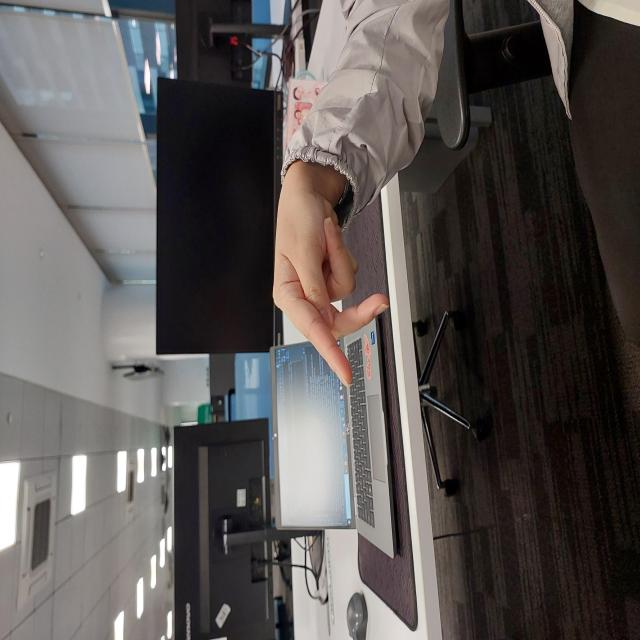P: (256, 272, 438, 387)
